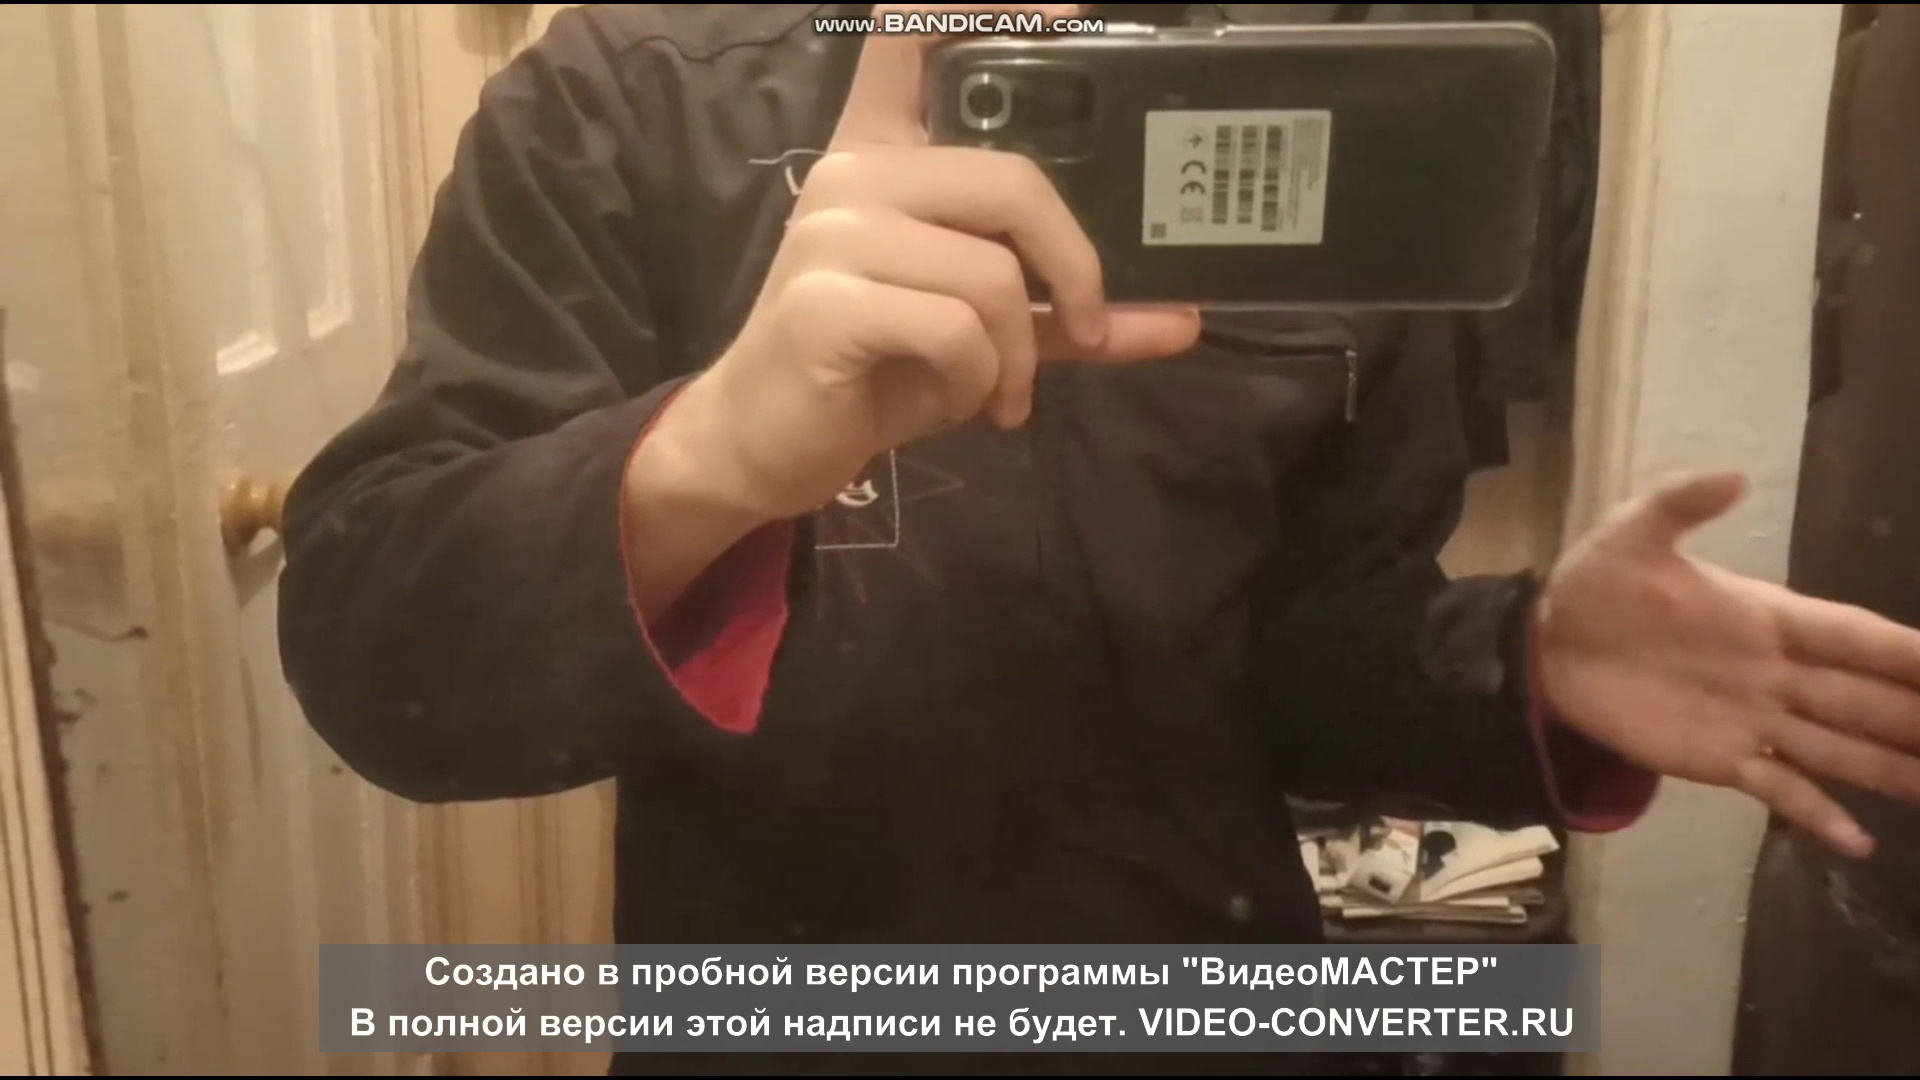Ладонь: (1553, 465, 1920, 860)
